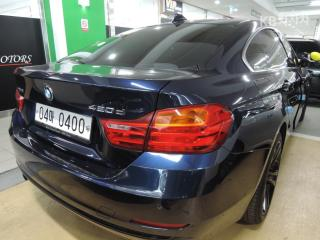0: (78, 117, 86, 134), (57, 112, 65, 128), (71, 115, 78, 132), (38, 106, 44, 120)
4: (65, 114, 71, 130), (44, 108, 49, 122)
plate: (25, 95, 100, 147)
아: (49, 109, 55, 123)
